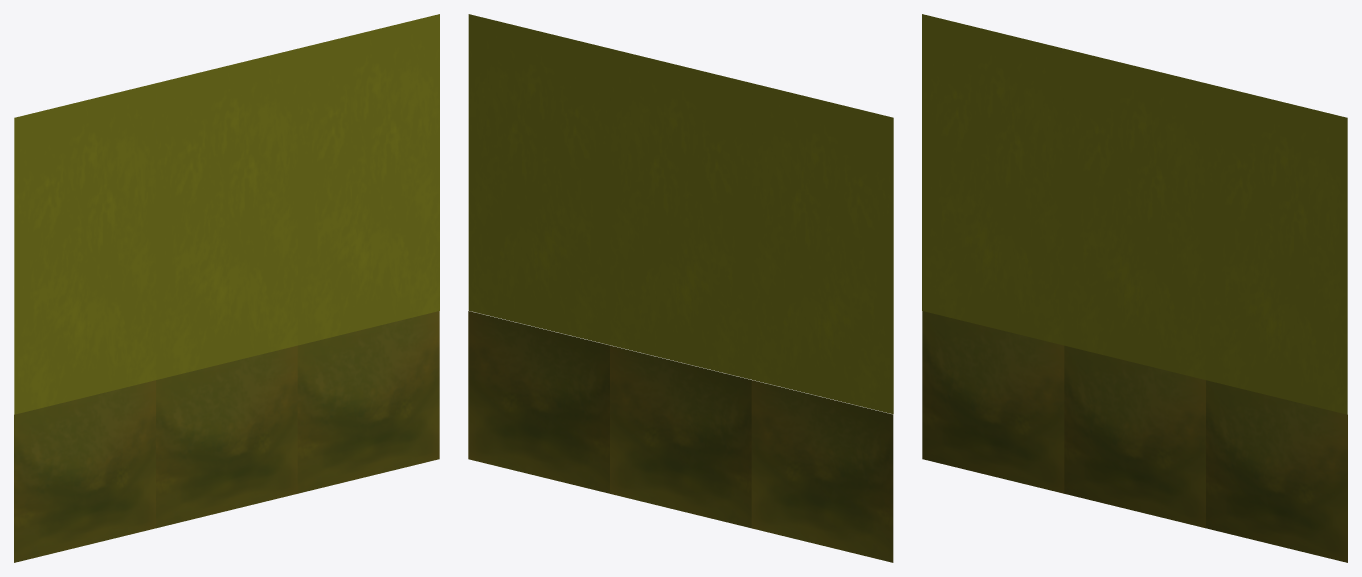
File: wallsegment3x3.glb
The picture shows the model from 3 angles, left to right: view 1: azimuth 30°, elevation 25°; view 2: azimuth 150°, elevation 25°; view 3: azimuth 330°, elevation 25°; orthographic projection.
Visible parts, largest first — view 1: boolMesh: wallSegment; view 2: boolMesh: wallSegment; view 3: boolMesh: wallSegment.
Boxes of the visible parts, <box> form: boolMesh: wallSegment: <box>14,14,439,562</box>; boolMesh: wallSegment: <box>468,14,893,562</box>; boolMesh: wallSegment: <box>922,14,1347,562</box>.
Bounding box in the file's own units: 3 × 3 × 0.0977.
Materials: 1 (1 with a texture image).
